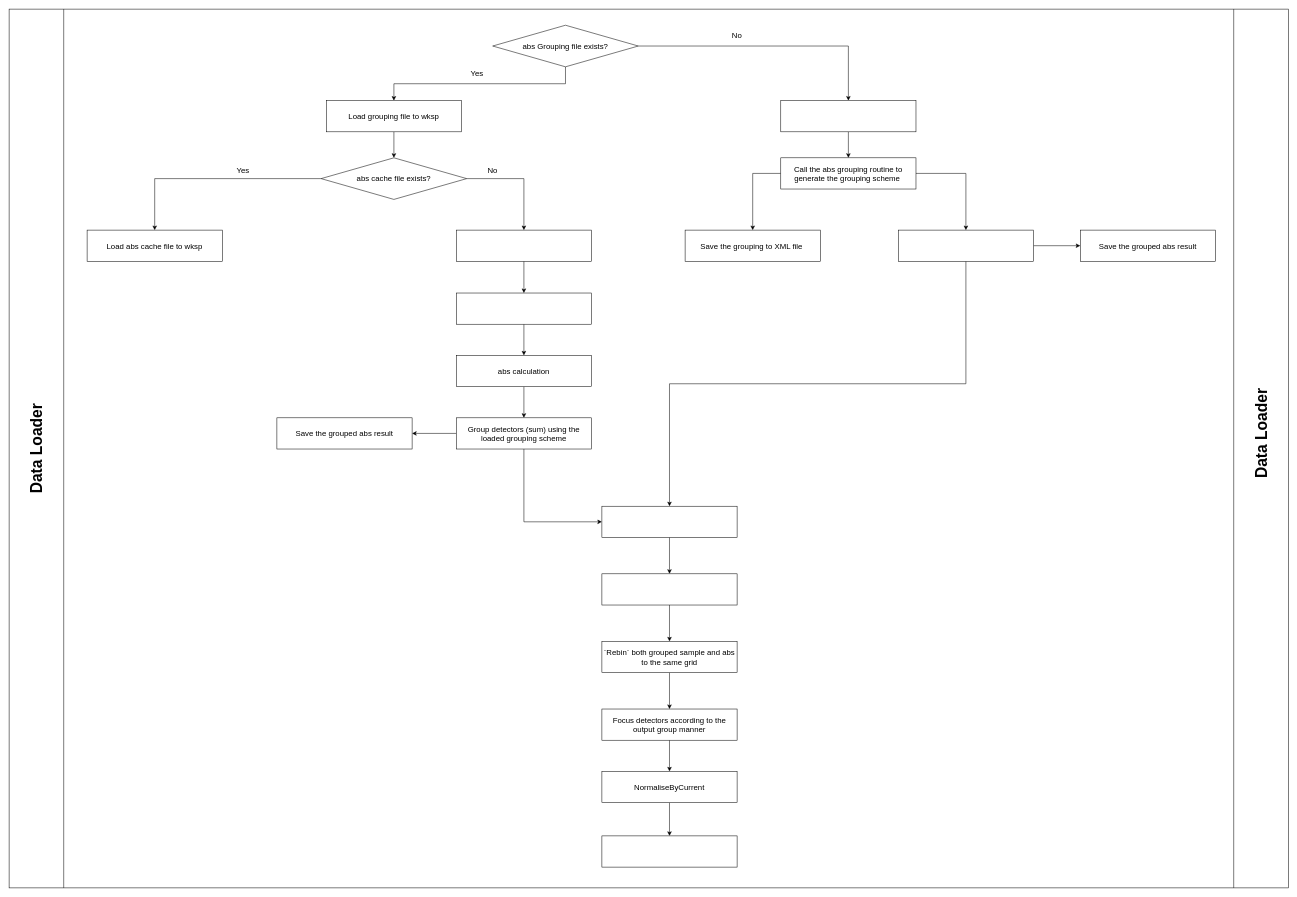
Image size: 1297x897. Some labels were removed from this diagram. The centre of each missing label's shape, as x and y in pixels:
"`AlignAndFocusPowderFromFiles` using the specified grouping scheme" belongs at point (669, 521).
"`ConvertUnits` (to Q) for both grouped sample and abs" belongs at point (669, 589).
"abs calculation pixel-by-pixel" belongs at point (848, 116).
"Generate list of ID's of the first detector in each group" belongs at point (524, 245).
"Group detectors (average) according to the generated grouping scheme" belongs at point (966, 245).
"Mask all detectors except those in the list generated in previous step" belongs at point (524, 308).
"Return workspace" belongs at point (669, 851).
